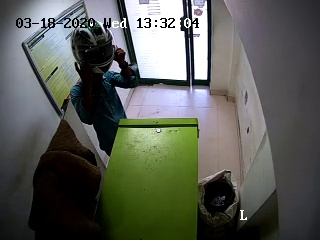helmet: (70, 20, 119, 79)
